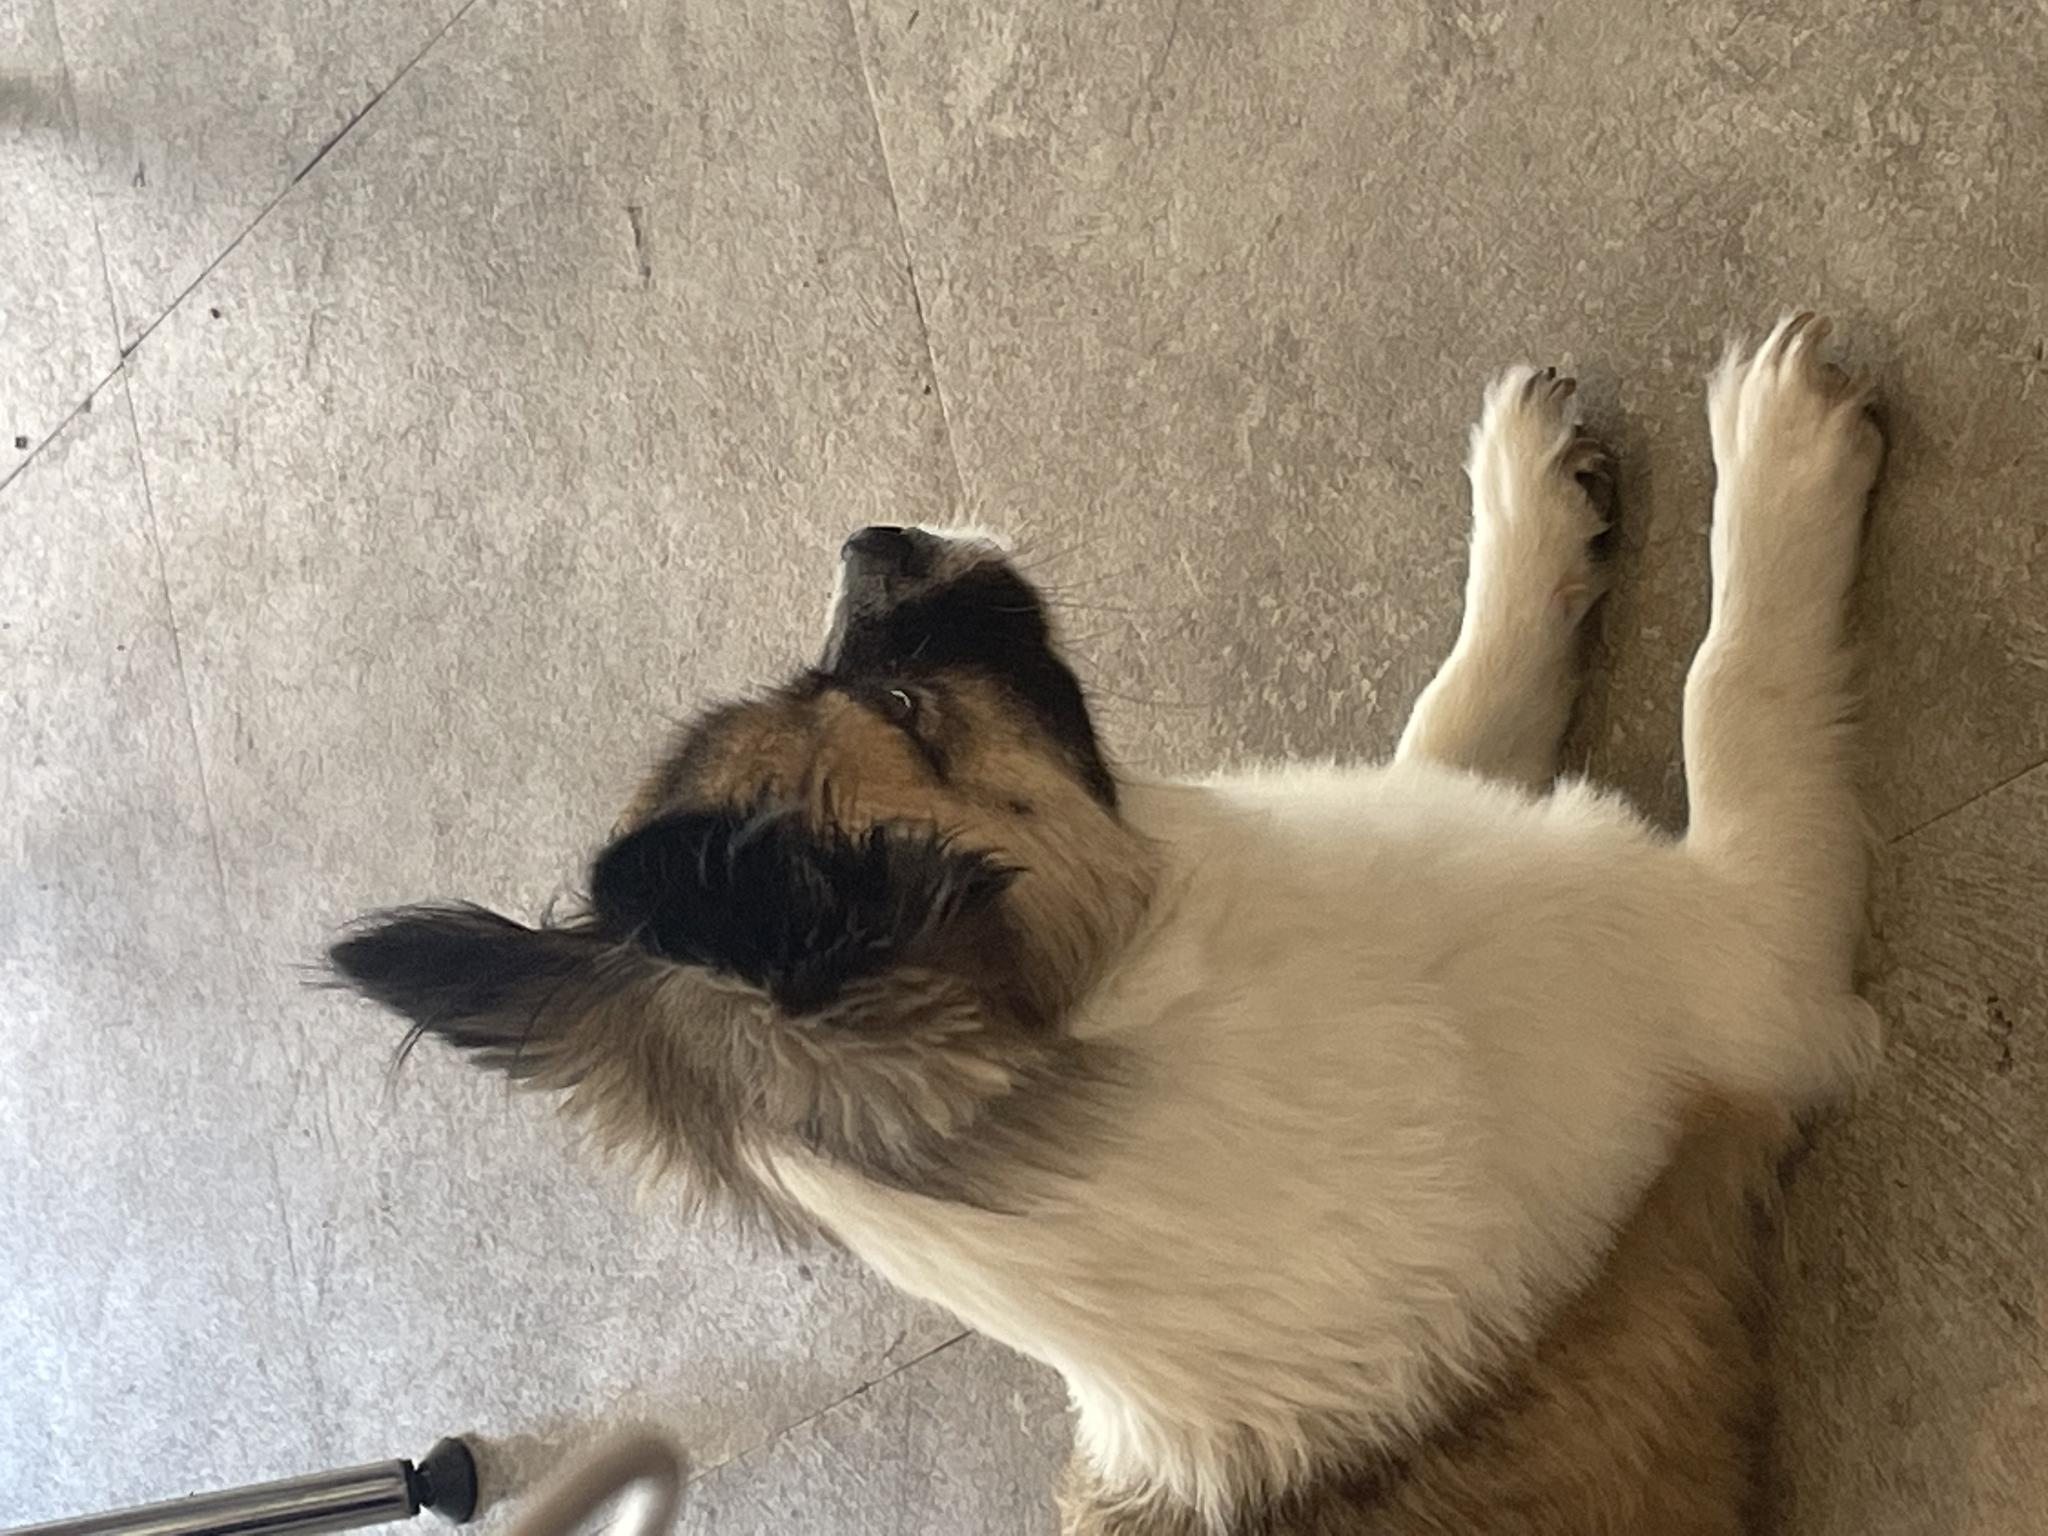dog: (2, 294, 1229, 1536)
